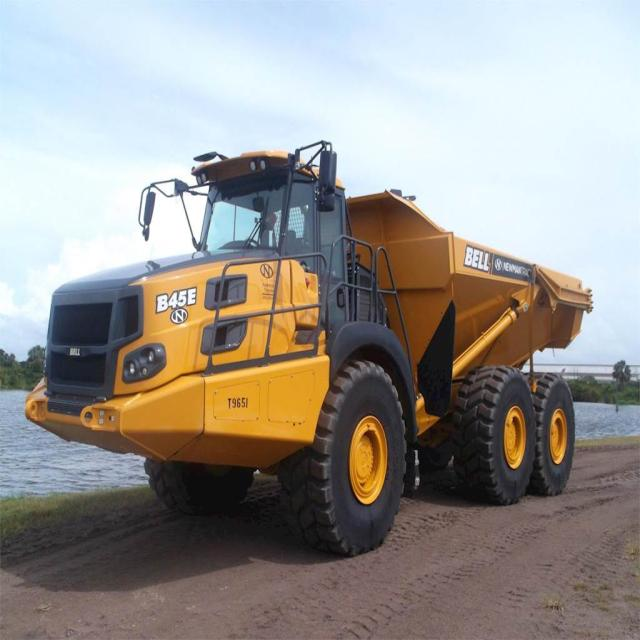dump_truck: (28, 142, 600, 550)
